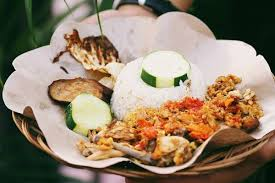ayam_geprek: (92, 95, 222, 159)
